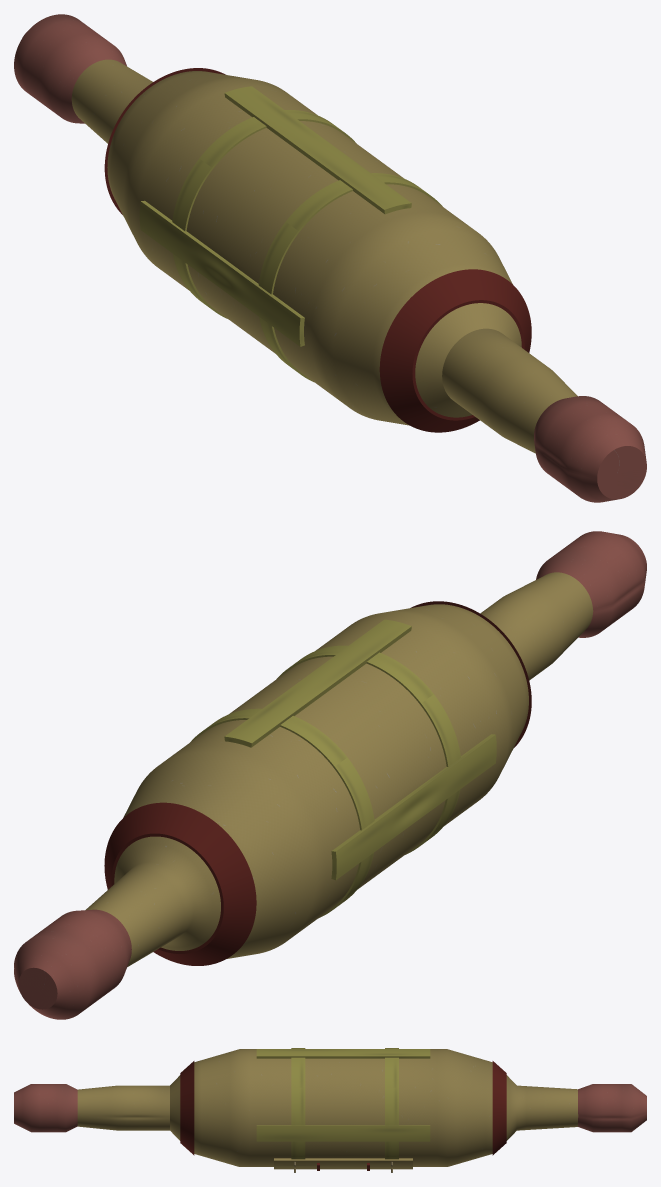
3 renders of one model, top to bottom at view 1: azimuth 30°, elevation 25°; view 2: azimuth 150°, elevation 25°; view 3: azimuth 270°, elevation 25°, orthographic. The views are drawn at different scales.
Visible parts, largest first — view 1: Braccatian Dancing Bolt gold central body, Braccatian Dancing Bolt body band 0, Braccatian Dancing Bolt gold connector, Braccatian Dancing Bolt red forward terminal, Braccatian Dancing Bolt red rear terminal, Braccatian Dancing Bolt yellow green casting 1, Braccatian Dancing Bolt yellow green casting 2, Braccatian Dancing Bolt body band 1, Braccatian Dancing Bolt body band 2, Braccatian Dancing Bolt body band 3; view 2: Braccatian Dancing Bolt gold central body, Braccatian Dancing Bolt red rear terminal, Braccatian Dancing Bolt body band 3, Braccatian Dancing Bolt gold connector, Braccatian Dancing Bolt red forward terminal, Braccatian Dancing Bolt yellow green casting 1, Braccatian Dancing Bolt yellow green casting 2, Braccatian Dancing Bolt body band 2, Braccatian Dancing Bolt body band 1, Braccatian Dancing Bolt body band 0; view 3: Braccatian Dancing Bolt gold central body, Braccatian Dancing Bolt gold connector, Braccatian Dancing Bolt red rear terminal, Braccatian Dancing Bolt yellow green casting 0, Braccatian Dancing Bolt red forward terminal, Braccatian Dancing Bolt yellow green casting 2, Braccatian Dancing Bolt service cover 1, Braccatian Dancing Bolt body band 1, Braccatian Dancing Bolt body band 0, Braccatian Dancing Bolt body band 3, Braccatian Dancing Bolt body band 2.
Boxes of the visible parts, x1=… form: Braccatian Dancing Bolt gold central body: x1=71, y1=59, x2=521, y2=425; Braccatian Dancing Bolt body band 0: x1=379, y1=269, x2=531, y2=432; Braccatian Dancing Bolt gold connector: x1=442, y1=328, x2=577, y2=453; Braccatian Dancing Bolt red forward terminal: x1=534, y1=396, x2=646, y2=502; Braccatian Dancing Bolt red rear terminal: x1=14, y1=14, x2=126, y2=123; Braccatian Dancing Bolt yellow green casting 1: x1=139, y1=200, x2=304, y2=346; Braccatian Dancing Bolt yellow green casting 2: x1=224, y1=86, x2=411, y2=214; Braccatian Dancing Bolt body band 1: x1=258, y1=173, x2=442, y2=381; Braccatian Dancing Bolt body band 2: x1=172, y1=110, x2=356, y2=318; Braccatian Dancing Bolt body band 3: x1=104, y1=68, x2=225, y2=214; Braccatian Dancing Bolt gold central body: x1=85, y1=604, x2=528, y2=966; Braccatian Dancing Bolt red rear terminal: x1=14, y1=909, x2=131, y2=1019; Braccatian Dancing Bolt body band 3: x1=104, y1=802, x2=256, y2=965; Braccatian Dancing Bolt gold connector: x1=480, y1=572, x2=593, y2=680; Braccatian Dancing Bolt red forward terminal: x1=536, y1=531, x2=646, y2=637; Braccatian Dancing Bolt yellow green casting 1: x1=331, y1=734, x2=496, y2=880; Braccatian Dancing Bolt yellow green casting 2: x1=224, y1=619, x2=411, y2=747; Braccatian Dancing Bolt body band 2: x1=190, y1=708, x2=374, y2=917; Braccatian Dancing Bolt body band 1: x1=277, y1=645, x2=460, y2=854; Braccatian Dancing Bolt body band 0: x1=411, y1=601, x2=531, y2=747; Braccatian Dancing Bolt gold central body: x1=170, y1=1049, x2=578, y2=1166; Braccatian Dancing Bolt gold connector: x1=77, y1=1085, x2=169, y2=1130; Braccatian Dancing Bolt red rear terminal: x1=578, y1=1084, x2=646, y2=1132; Braccatian Dancing Bolt yellow green casting 0: x1=256, y1=1125, x2=430, y2=1141; Braccatian Dancing Bolt red forward terminal: x1=14, y1=1084, x2=77, y2=1132; Braccatian Dancing Bolt yellow green casting 2: x1=256, y1=1049, x2=430, y2=1058; Braccatian Dancing Bolt service cover 1: x1=274, y1=1158, x2=412, y2=1169; Braccatian Dancing Bolt body band 1: x1=291, y1=1048, x2=305, y2=1159; Braccatian Dancing Bolt body band 0: x1=180, y1=1061, x2=194, y2=1155; Braccatian Dancing Bolt body band 3: x1=492, y1=1061, x2=506, y2=1155; Braccatian Dancing Bolt body band 2: x1=385, y1=1048, x2=398, y2=1159.
Bounding box in the file's own units: 0.356 × 0.3662 × 1.82.
5 materials, 3 textured.
